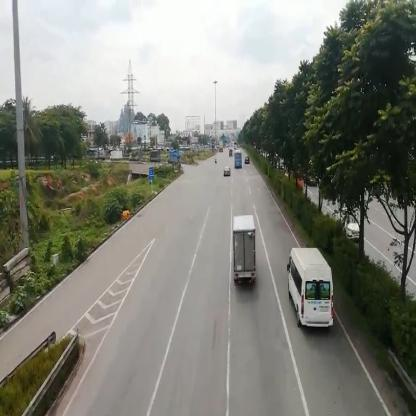bus: (235, 153, 244, 170)
car: (290, 249, 334, 329), (343, 212, 361, 240), (226, 168, 232, 177), (247, 156, 253, 165)
truck: (234, 213, 257, 288), (170, 153, 181, 167), (151, 151, 162, 164), (112, 151, 123, 160), (130, 154, 140, 163)
